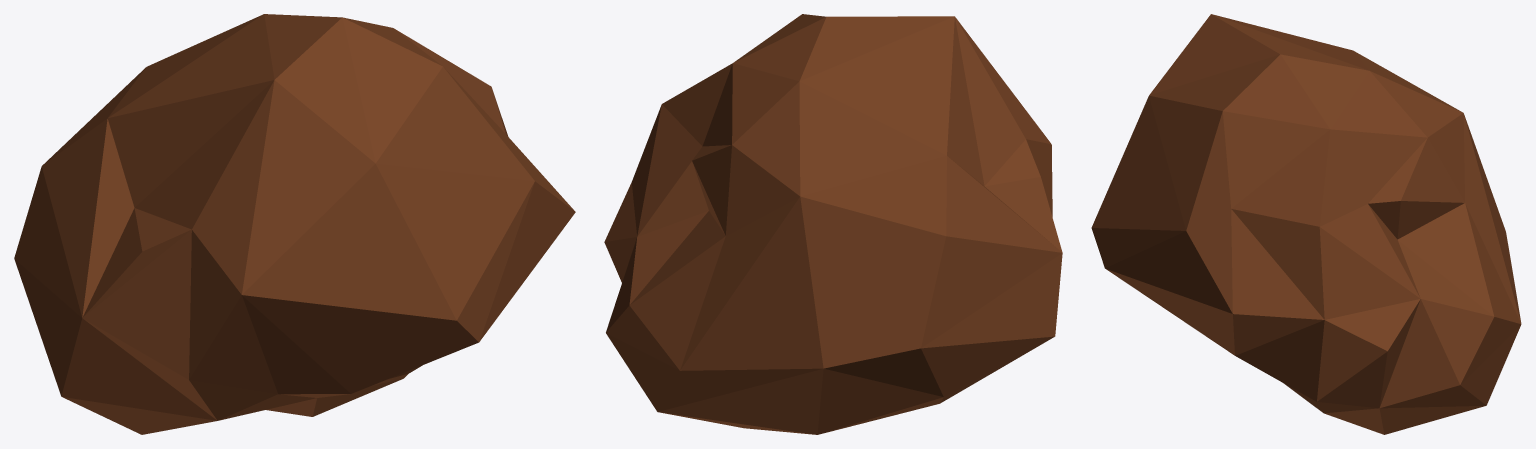
Rendered from Boulder_02_Jagged.obj.
The picture shows the model from 3 angles, left to right: view 1: azimuth 30°, elevation 25°; view 2: azimuth 150°, elevation 25°; view 3: azimuth 270°, elevation 25°; orthographic projection. The views are drawn at different scales.
Parts seen in each view (by area): view 1: Boulder_02_Jagged; view 2: Boulder_02_Jagged; view 3: Boulder_02_Jagged.
Boxes of the visible parts, x1=… form: Boulder_02_Jagged: x1=14, y1=14, x2=575, y2=434; Boulder_02_Jagged: x1=604, y1=14, x2=1062, y2=434; Boulder_02_Jagged: x1=1091, y1=14, x2=1521, y2=434.
Bounding box in the file's own units: 2.61 × 2.35 × 2.49.
